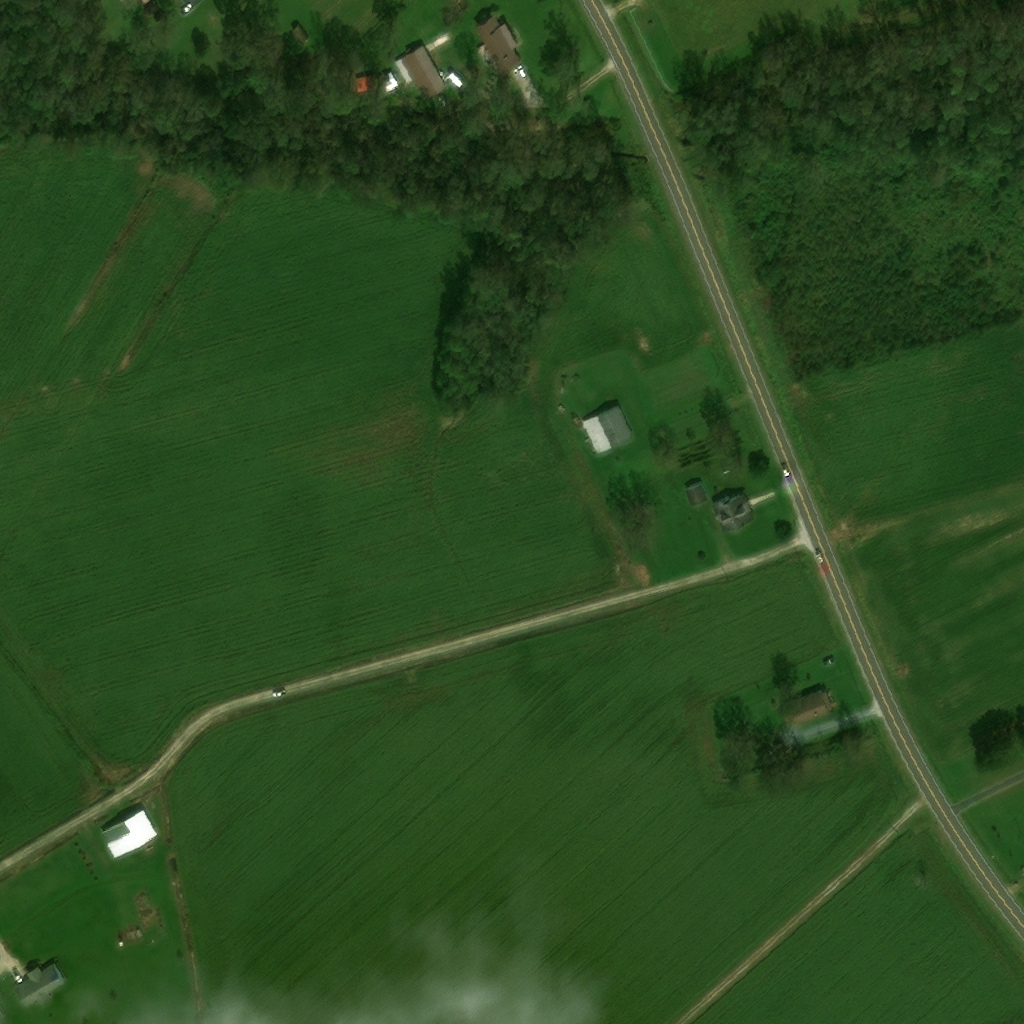no_damage: (396, 45, 450, 101), (100, 809, 158, 860), (474, 17, 520, 73), (582, 407, 634, 456), (15, 964, 68, 1008), (711, 493, 754, 535), (783, 692, 830, 727), (685, 486, 709, 509), (291, 26, 309, 45), (384, 74, 399, 92), (772, 745, 787, 760), (0, 1010, 7, 1023)
unclassified: (119, 0, 137, 11), (139, 0, 151, 6)
